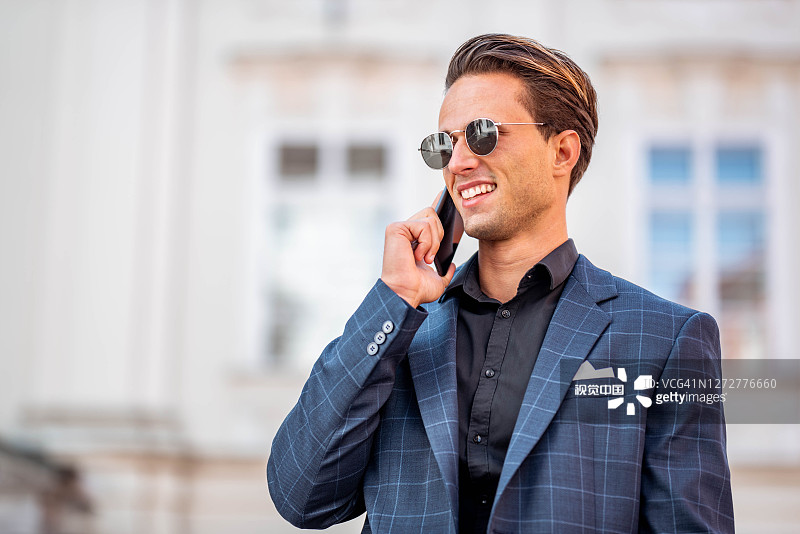calling: (371, 173, 474, 305)
